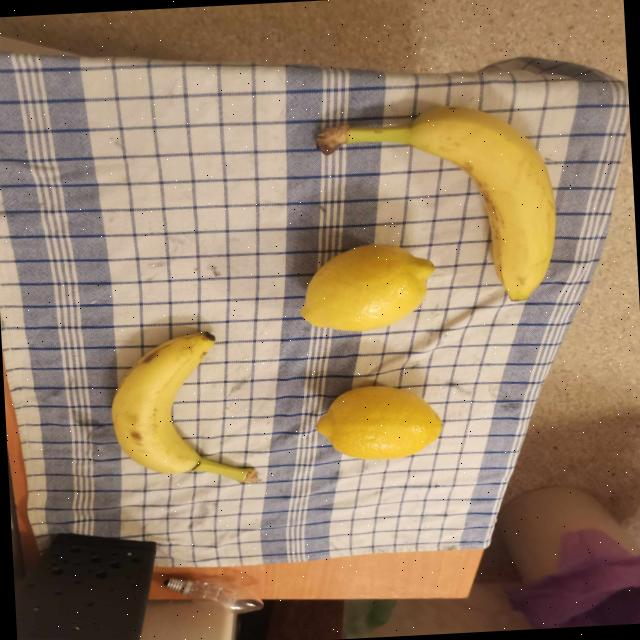banana: (314, 103, 556, 300), (109, 328, 256, 482)
lemon: (300, 241, 435, 329), (317, 382, 442, 459)
